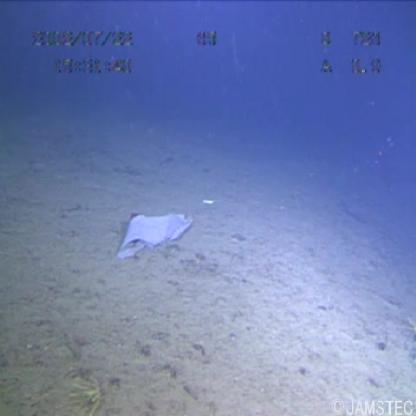Rác: (101, 201, 203, 261)
